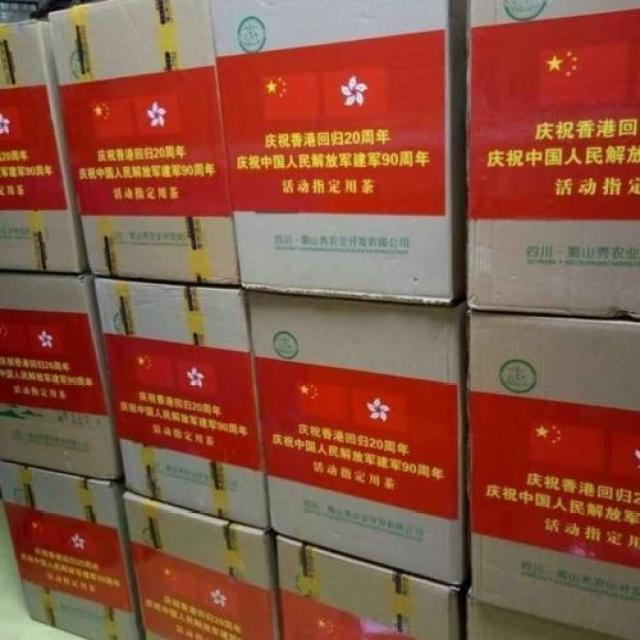box: (209, 0, 467, 306), (247, 293, 471, 584), (465, 310, 640, 640), (465, 0, 640, 321), (49, 0, 239, 285), (93, 277, 269, 528), (0, 461, 145, 640), (0, 271, 123, 480), (124, 489, 283, 640), (0, 18, 88, 271), (278, 535, 468, 640), (466, 599, 640, 640)
